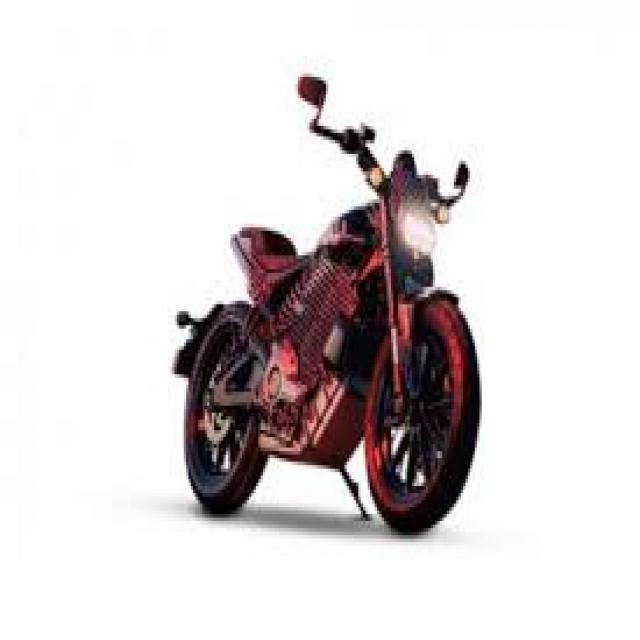Bike: (172, 69, 488, 541)
